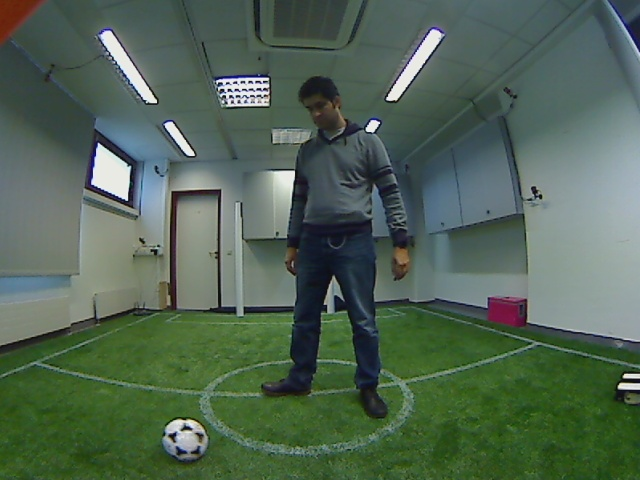ball: (155, 413, 213, 465)
